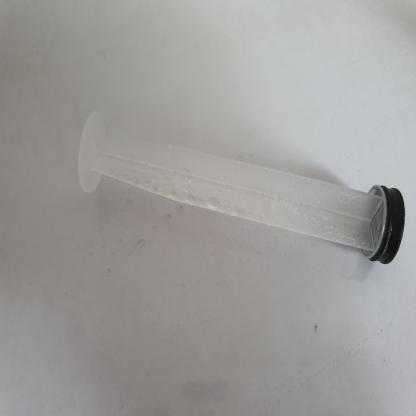wet: (74, 113, 404, 265)
